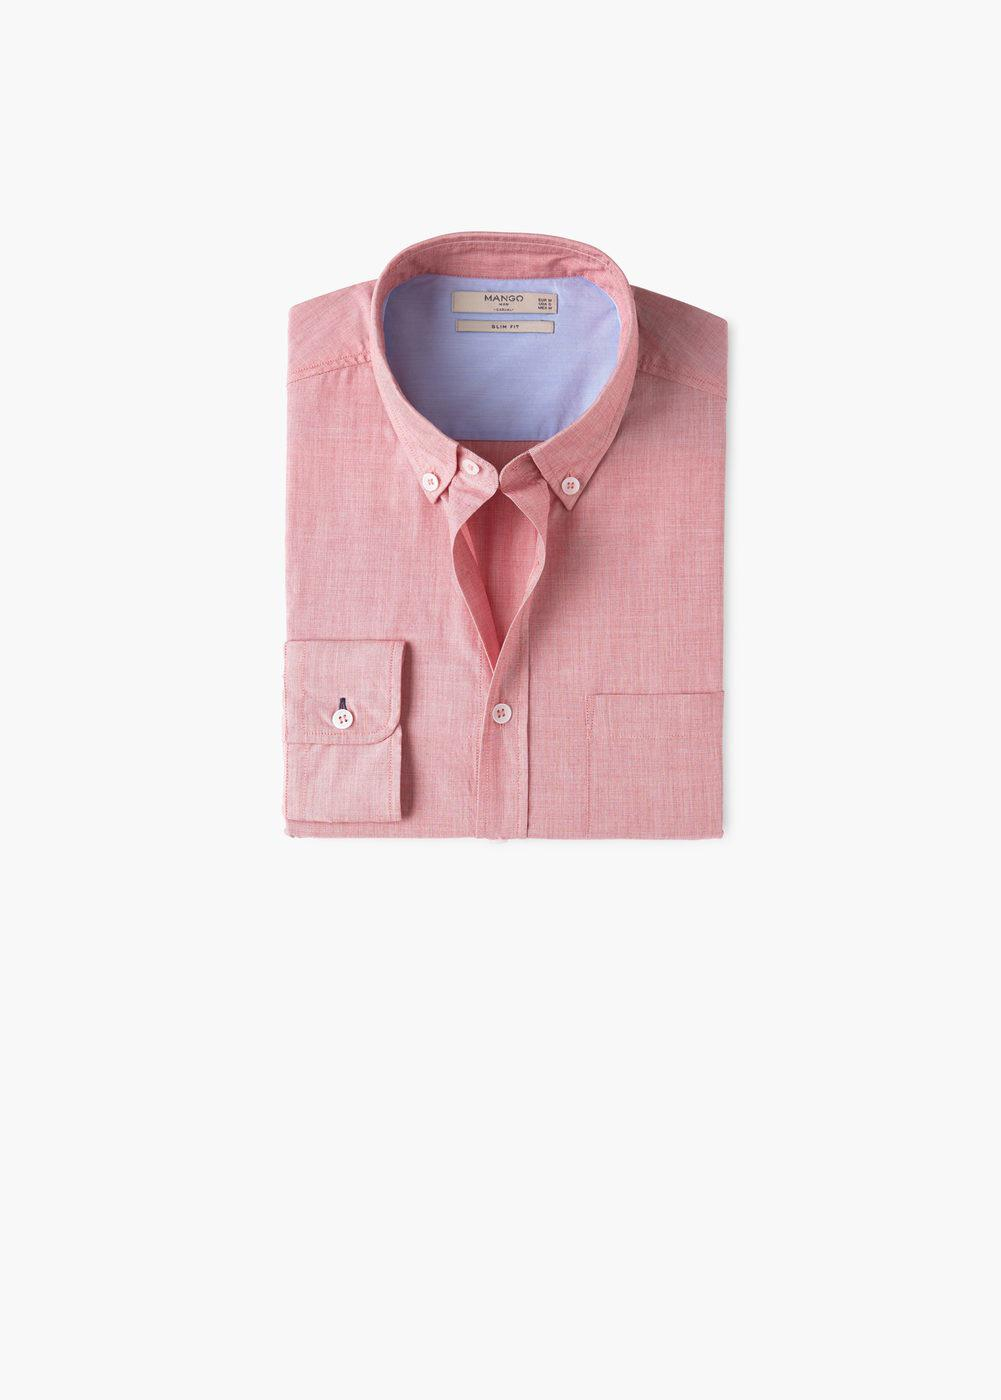teeshirt: (255, 227, 760, 878)
